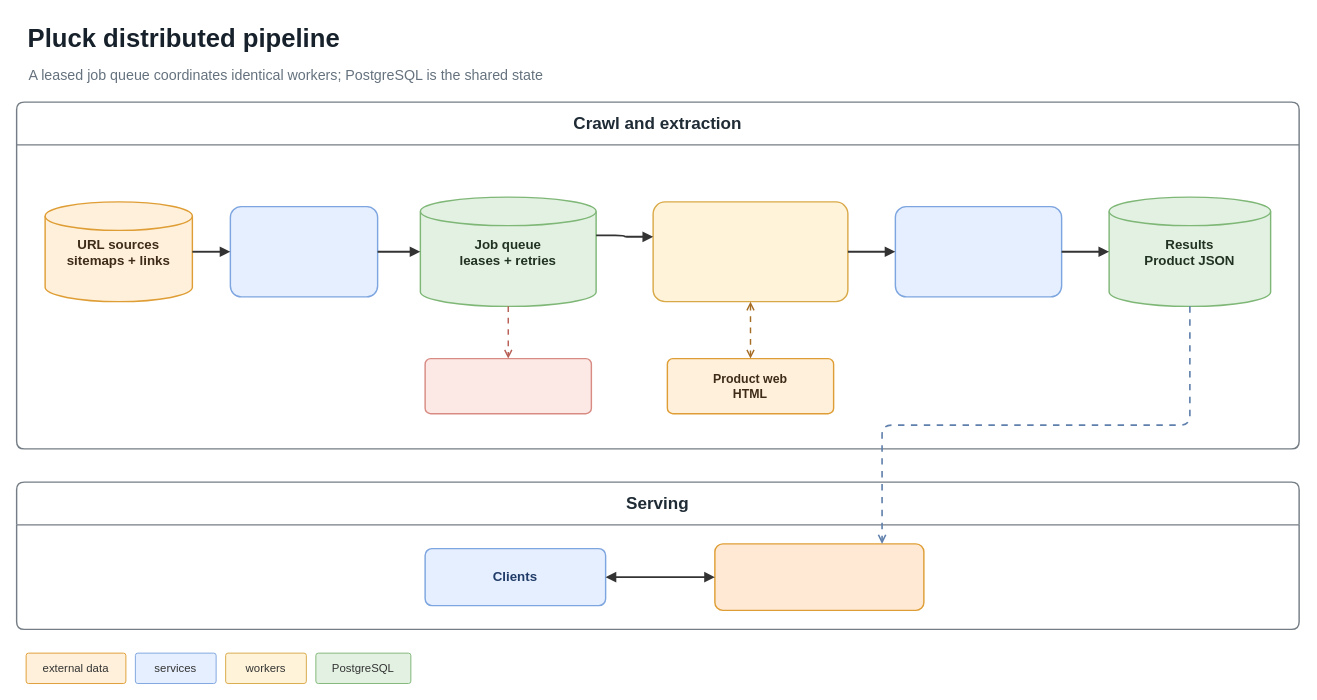
Image size: 1317x700. Some labels were removed from this diagram. The centre of each missing label's shape, as x and y in pixels:
API + storefront catalog + live status: the point at 819,577
Dead letters failed jobs: the point at 508,385
Extractor four rungs: the point at 978,251
Seeder enqueue URLs: the point at 303,251
Workers × N fetch · extract · discover: the point at 750,251
